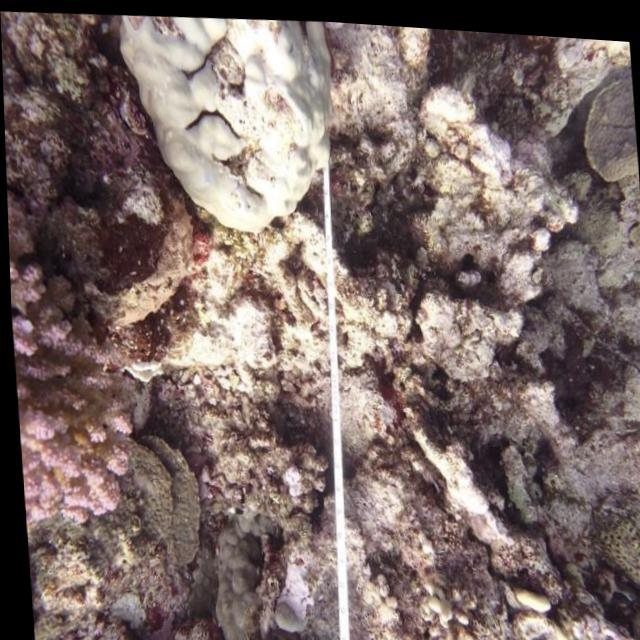Bleached Coral: (109, 6, 355, 254), (193, 502, 288, 640), (396, 543, 468, 640), (493, 549, 567, 640), (263, 590, 308, 639)
